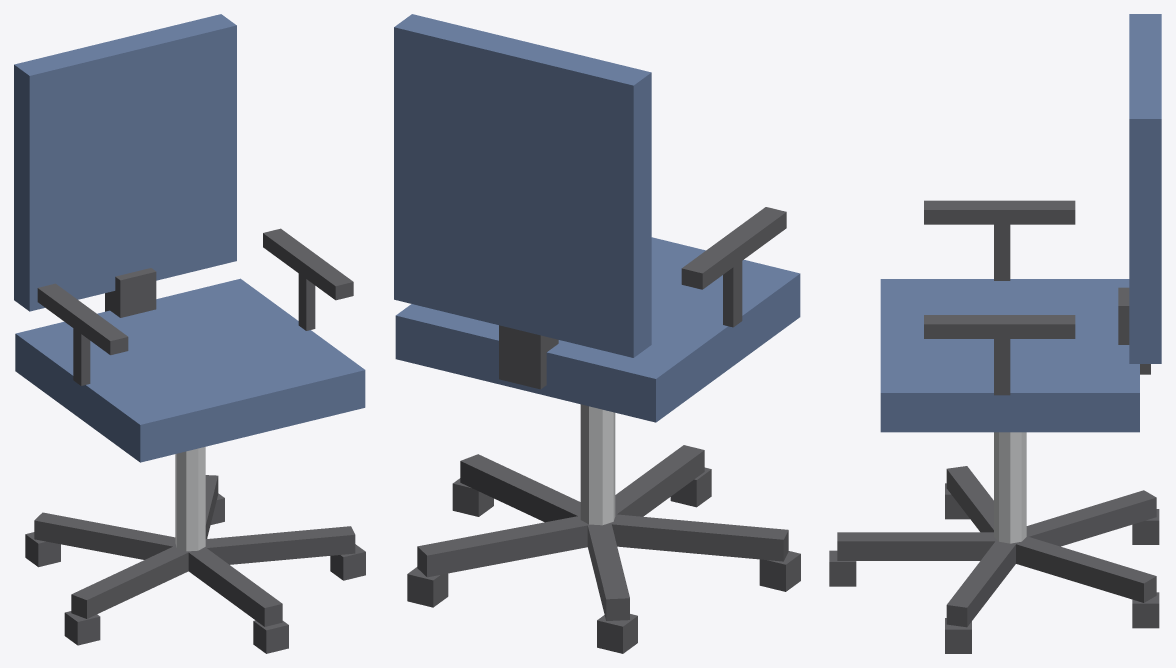
Rendered from Chair_Office.fbx.
The picture shows the model from 3 angles, left to right: view 1: azimuth 30°, elevation 25°; view 2: azimuth 150°, elevation 25°; view 3: azimuth 270°, elevation 25°; orthographic projection. The views are drawn at different scales.
Parts seen in each view (by area): view 1: Chair_Office; view 2: Chair_Office; view 3: Chair_Office.
Boxes of the visible parts, <box> form: Chair_Office: <box>14,14,365,653</box>; Chair_Office: <box>394,14,800,653</box>; Chair_Office: <box>829,14,1161,653</box>.
Bounding box in the file's own units: 0.6397 × 1.05 × 0.615.
